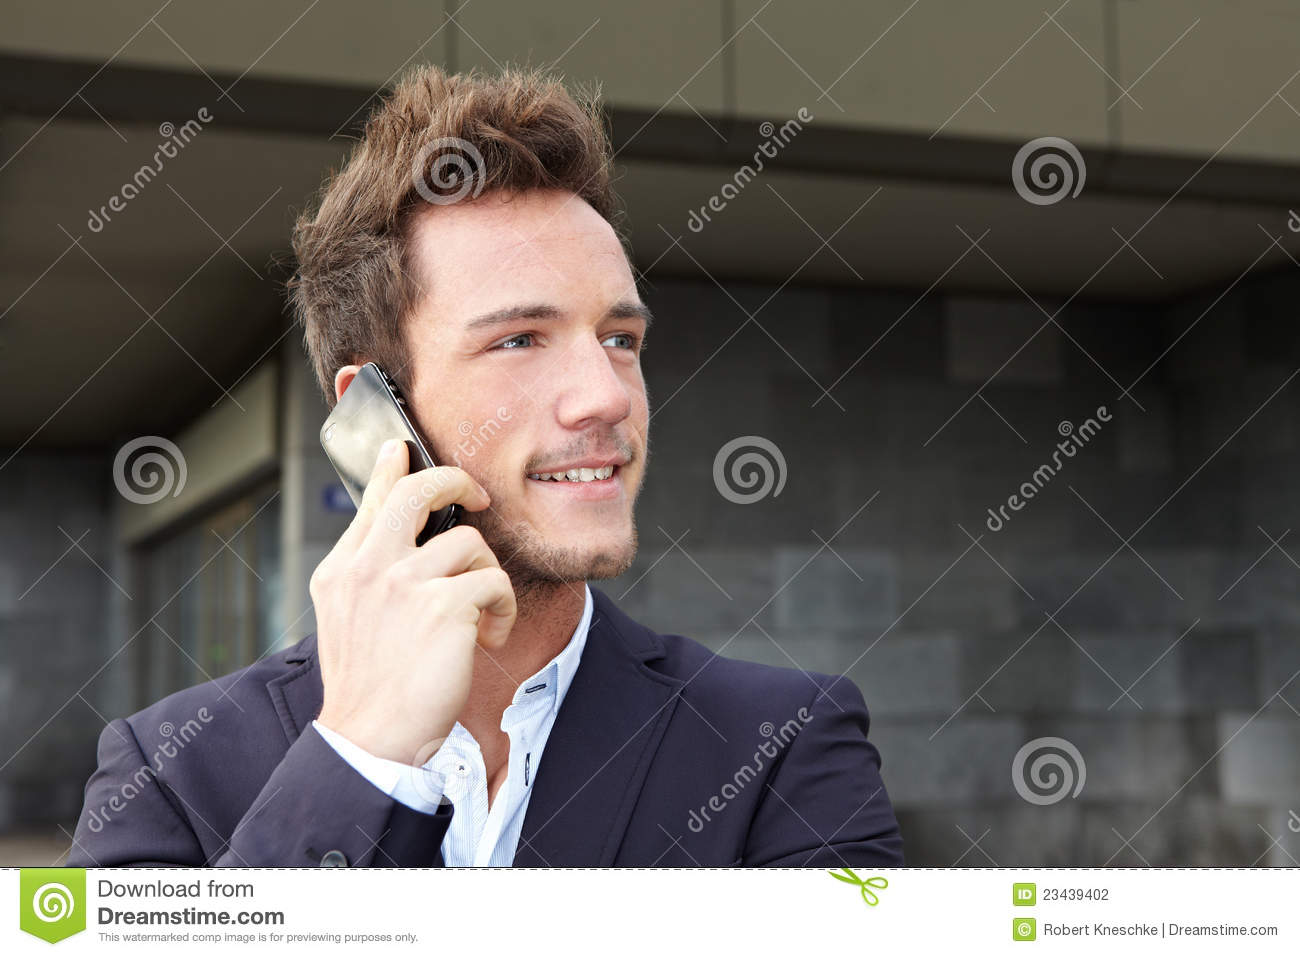phone: (319, 361, 462, 558)
talk: (299, 283, 658, 778)
